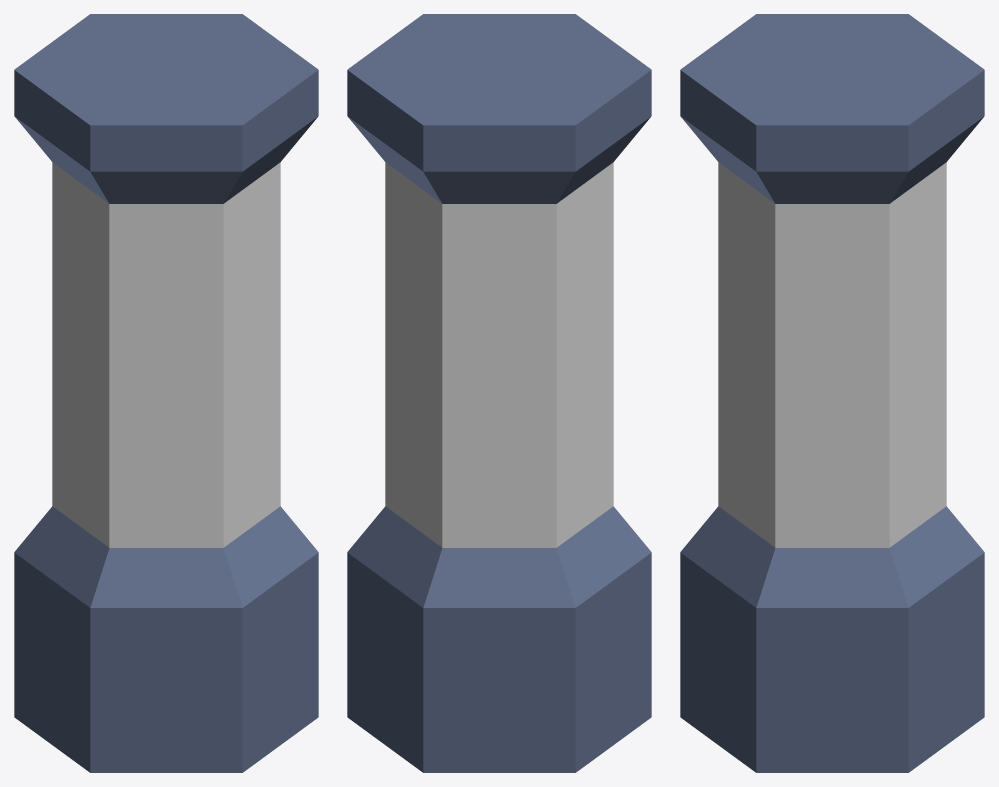
Rendered from tank.fbx.
3 views of the same model, side by side, from view 1: azimuth 30°, elevation 25°; view 2: azimuth 150°, elevation 25°; view 3: azimuth 270°, elevation 25° (orthographic).
Parts seen in each view (by area): view 1: Circle.002, Circle.001, Circle.003; view 2: Circle.002, Circle.001, Circle.003; view 3: Circle.002, Circle.001, Circle.003.
Part boxes in pixels (bbox=[...]): Circle.002: bbox=[52, 162, 280, 547]; Circle.001: bbox=[14, 506, 318, 772]; Circle.003: bbox=[14, 14, 318, 203]; Circle.002: bbox=[385, 162, 613, 547]; Circle.001: bbox=[347, 506, 651, 772]; Circle.003: bbox=[347, 14, 651, 203]; Circle.002: bbox=[718, 162, 946, 547]; Circle.001: bbox=[680, 506, 984, 772]; Circle.003: bbox=[680, 14, 984, 203].
Bounding box in the file's own units: 199 × 539 × 230.
